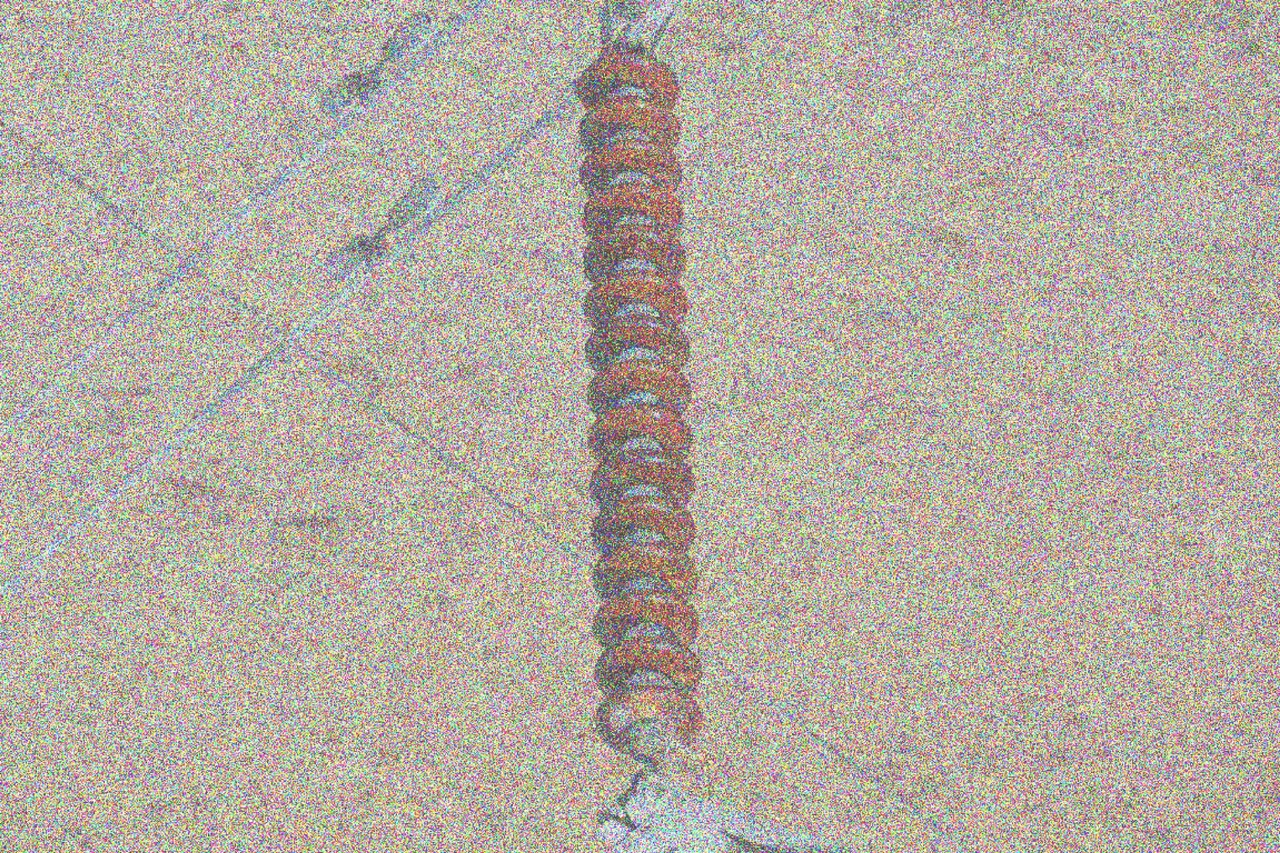Flashover damage: (589, 681, 704, 772), (593, 636, 704, 696), (589, 591, 700, 651), (591, 540, 702, 600), (588, 496, 699, 556), (583, 316, 690, 374)
No issues: (579, 182, 687, 241), (577, 138, 685, 197), (577, 95, 685, 154), (580, 224, 688, 283), (582, 270, 690, 329), (589, 450, 697, 509), (575, 51, 682, 110), (585, 403, 693, 461), (586, 365, 694, 417)
String: (574, 51, 707, 772)
